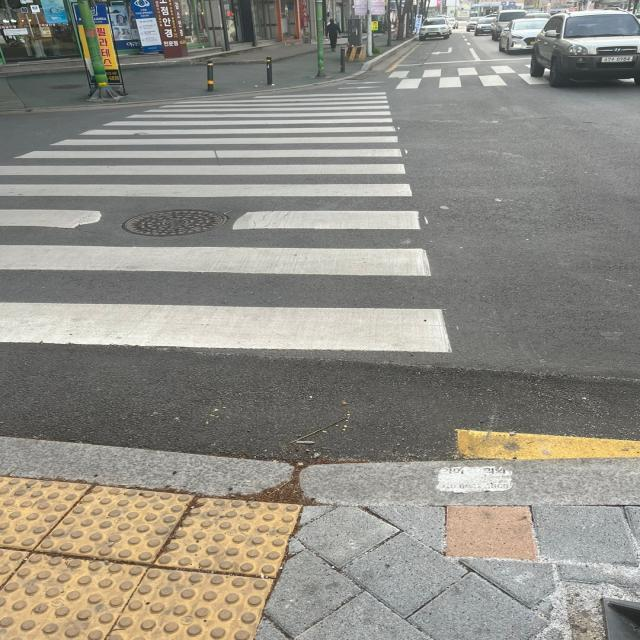Sewer Cover: (114, 203, 236, 243)
